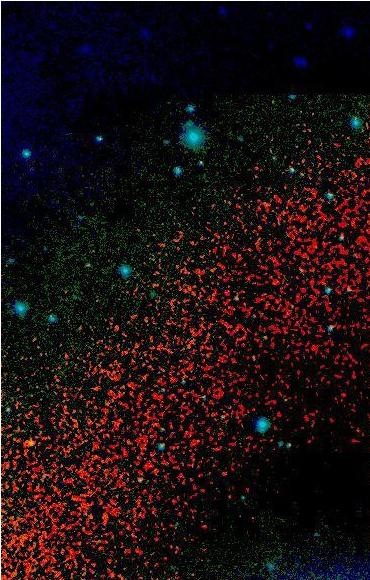star: (15, 426, 45, 456)
